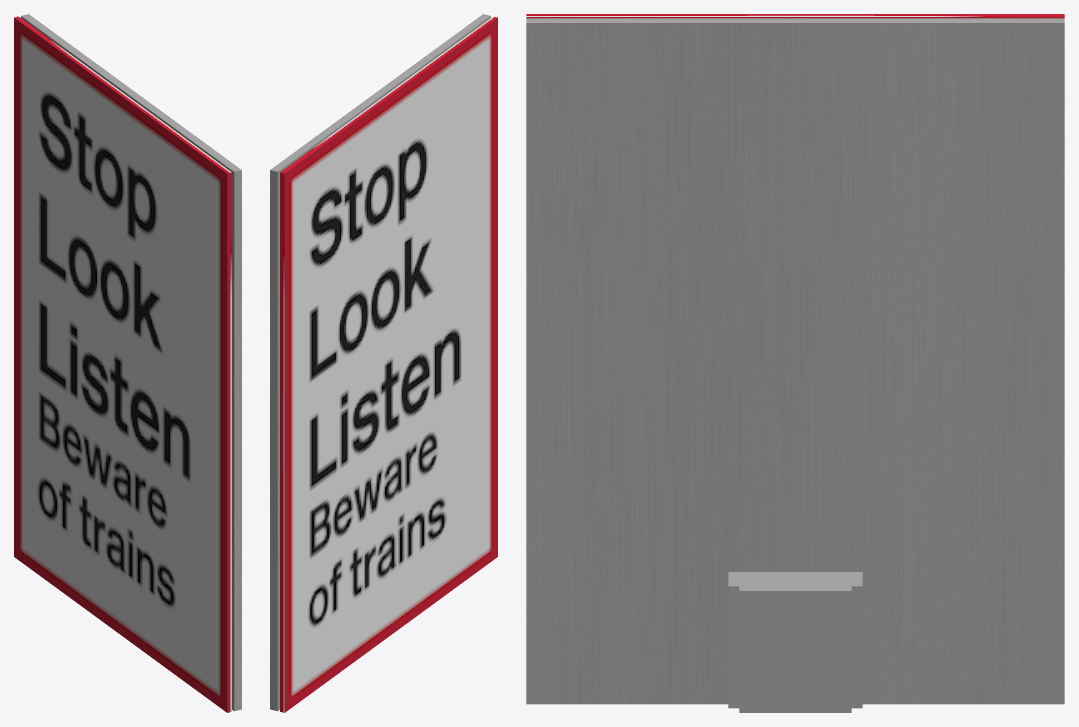
File: stop_look_listen.obj
3 renders of one model, left to right at view 1: azimuth 30°, elevation 25°; view 2: azimuth 150°, elevation 25°; view 3: azimuth 270°, elevation 25°, orthographic. The views are drawn at different scales.
Parts seen in each view (by area): view 1: cube; view 2: cube; view 3: cube.
Part boxes in pixels (x1,y1,x2,y2): cube: (14,14,241,712); cube: (270,14,497,712); cube: (526,14,1064,712).
Bounding box in the file's own units: 0.0922 × 1.05 × 0.75.
2 materials, 2 textured.
